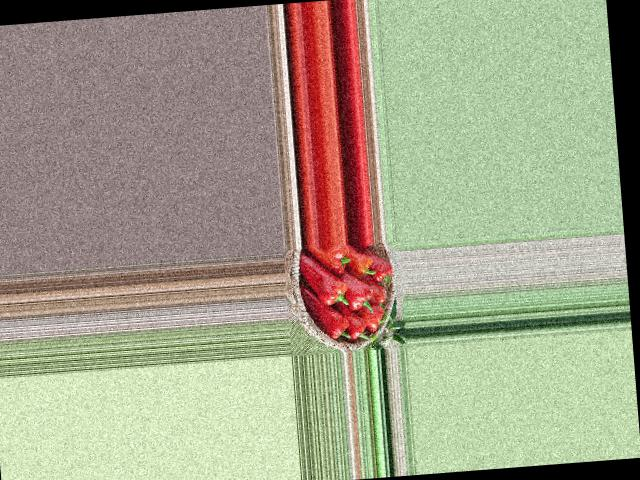bell_pepper: (345, 313, 371, 344)
